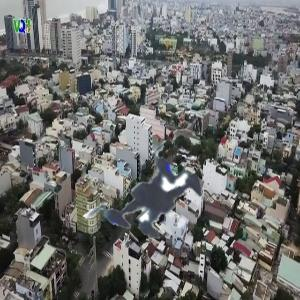drone: (59, 102, 251, 294)
